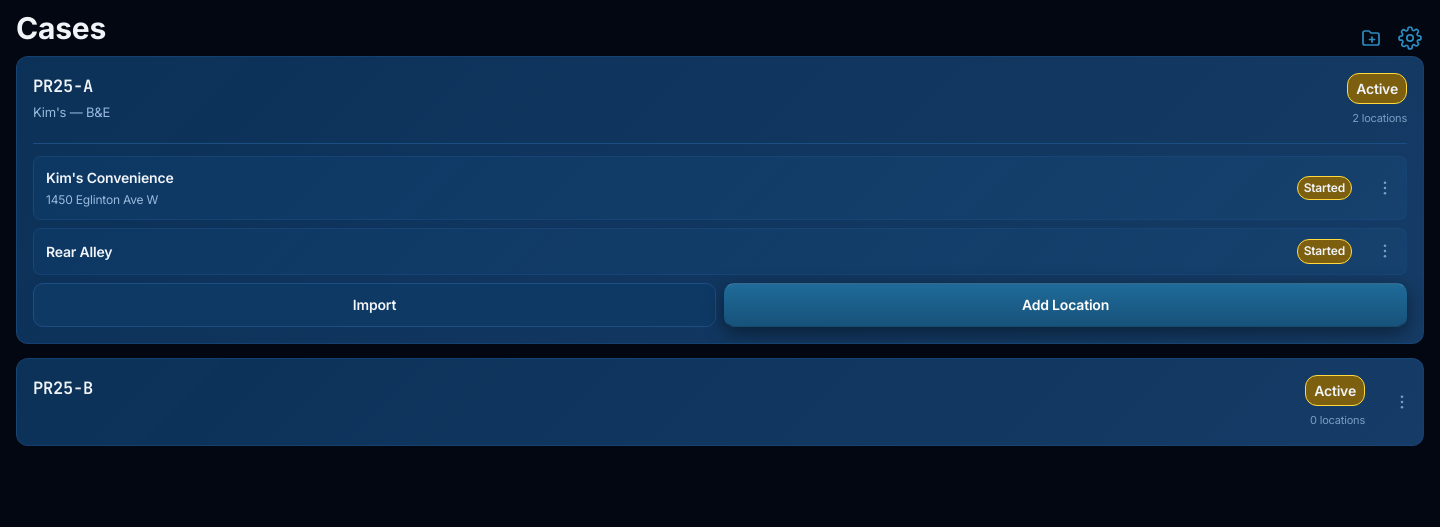
it: CasesScreen row actions — single open › opening one row’s actions closes the previously open one
Press the mouse on the button "PR25-B Active 0 locations" at point(63, 388), box [17, 358, 1381, 445]
Wait 500 ms
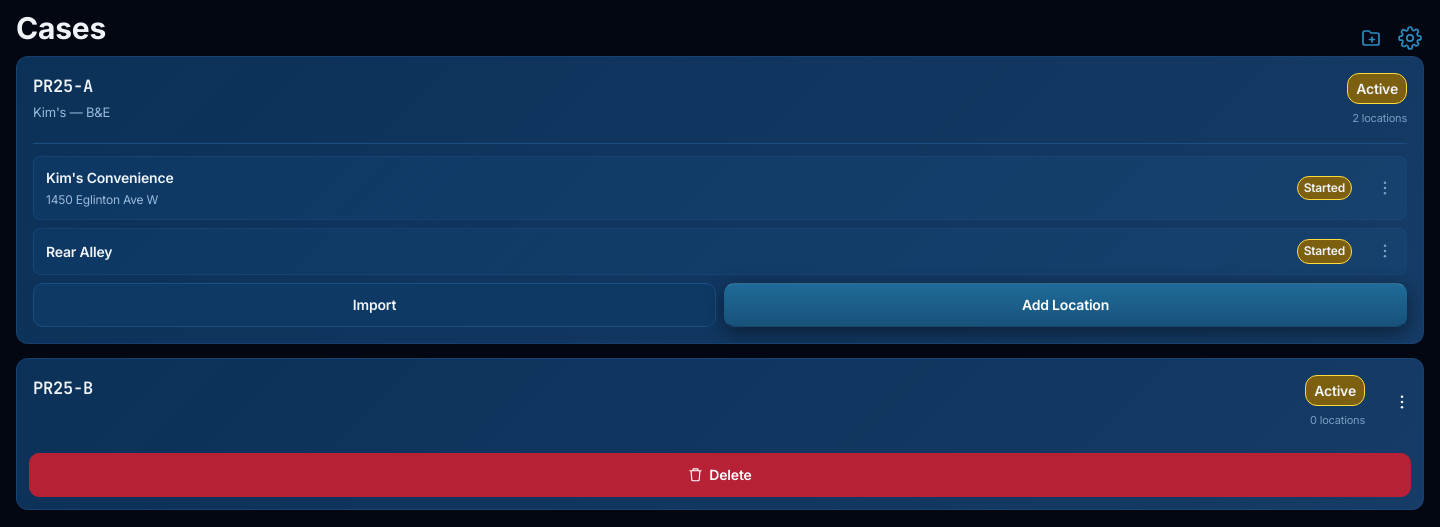
expect the element named "Actions for case PR25-B" is shown: met, box [17, 445, 1423, 509]
Press the mouse on the button "Kim's Convenience" at point(110, 178), box [34, 157, 1364, 219]
Wait 500 ms
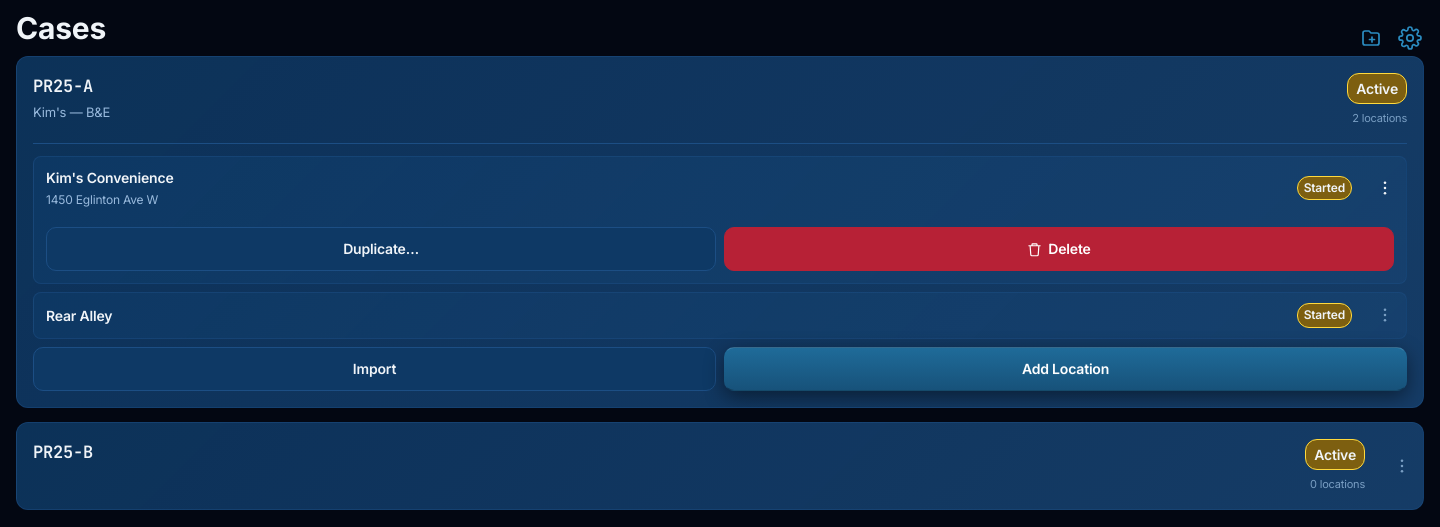
expect the element named "Actions for location Kim's Convenience" is shown: met, box [34, 219, 1406, 283]
Press the mouse on the button "Rear Alley Started" at point(79, 315), box [34, 293, 1364, 338]
Wait 500 ms
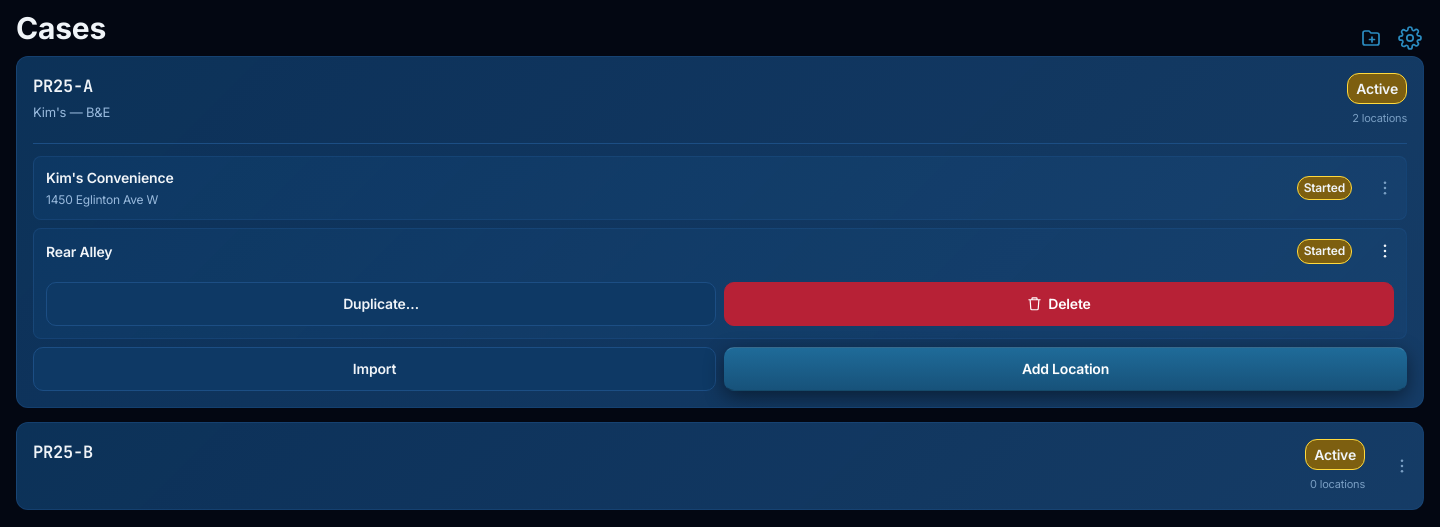
expect the element named "Actions for location Rear Alley" is shown: met, box [34, 274, 1406, 338]
